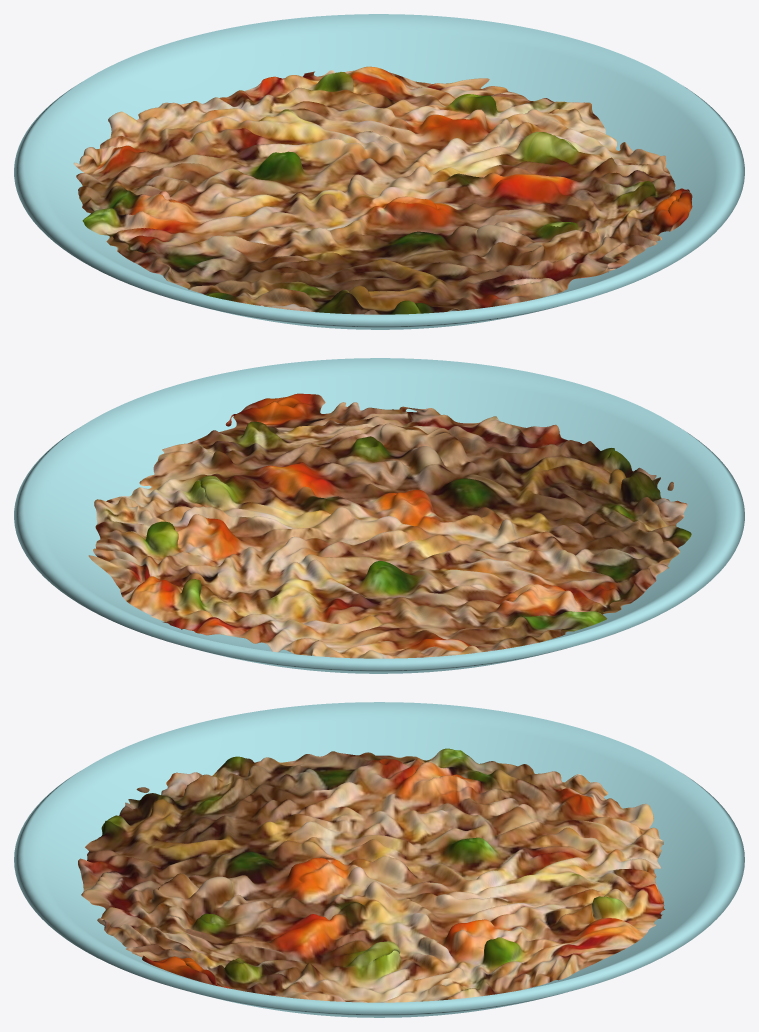
File: biryani.glb
3 renders of one model, top to bottom at view 1: azimuth 30°, elevation 25°; view 2: azimuth 150°, elevation 25°; view 3: azimuth 270°, elevation 25°, orthographic.
Parts seen in each view (by area): view 1: Plane_0; view 2: Plane_0; view 3: Plane_0.
Part boxes in pixels (<box>): Plane_0: <box>14,14,744,329</box>; Plane_0: <box>14,358,744,673</box>; Plane_0: <box>14,702,744,1017</box>.
Bounding box in the file's own units: 1.41 × 0.1887 × 1.41.
2 materials, 1 textured.
